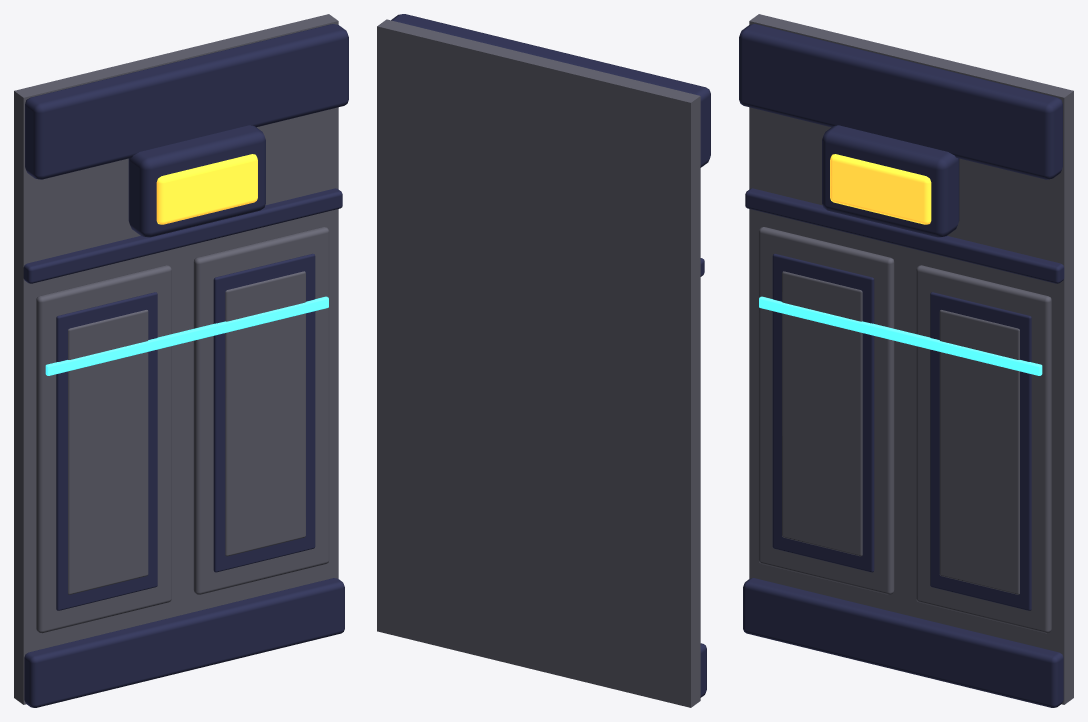
File: int.wallpanel.cockpit+amber.w0.95.s0.i1.glb
3 views of the same model, side by side, from view 1: azimuth 30°, elevation 25°; view 2: azimuth 150°, elevation 25°; view 3: azimuth 330°, elevation 25° (orthographic).
Visible parts, largest first — view 1: int.wallpanel.cockpit+amber.w0.95.s0.i1; view 2: int.wallpanel.cockpit+amber.w0.95.s0.i1; view 3: int.wallpanel.cockpit+amber.w0.95.s0.i1.
Boxes of the visible parts, box(x1,y1,x2,y2) form: int.wallpanel.cockpit+amber.w0.95.s0.i1: box(14, 14, 348, 707); int.wallpanel.cockpit+amber.w0.95.s0.i1: box(377, 14, 710, 707); int.wallpanel.cockpit+amber.w0.95.s0.i1: box(739, 14, 1073, 707).
Bounding box in the file's own units: 0.95 × 1.75 × 0.2.
